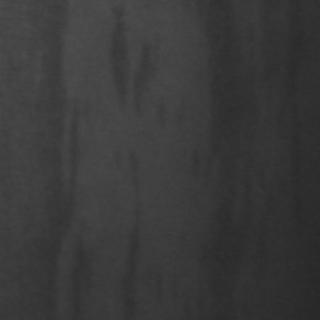inclusion: (191, 3, 259, 313), (11, 3, 75, 313), (108, 143, 150, 315), (277, 2, 307, 234), (100, 2, 148, 122)
